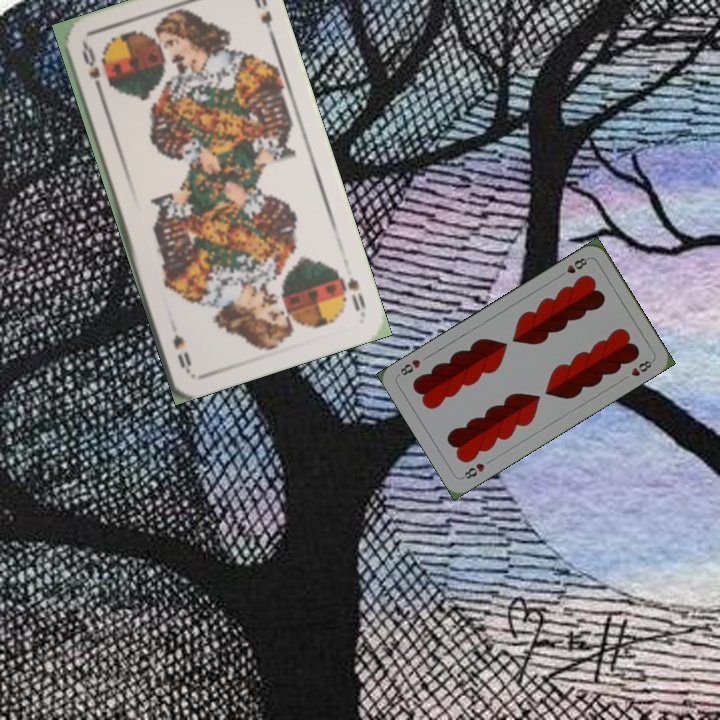H8: (555, 253, 592, 280), (458, 459, 487, 482)
SO: (78, 39, 106, 97), (337, 273, 369, 317)
